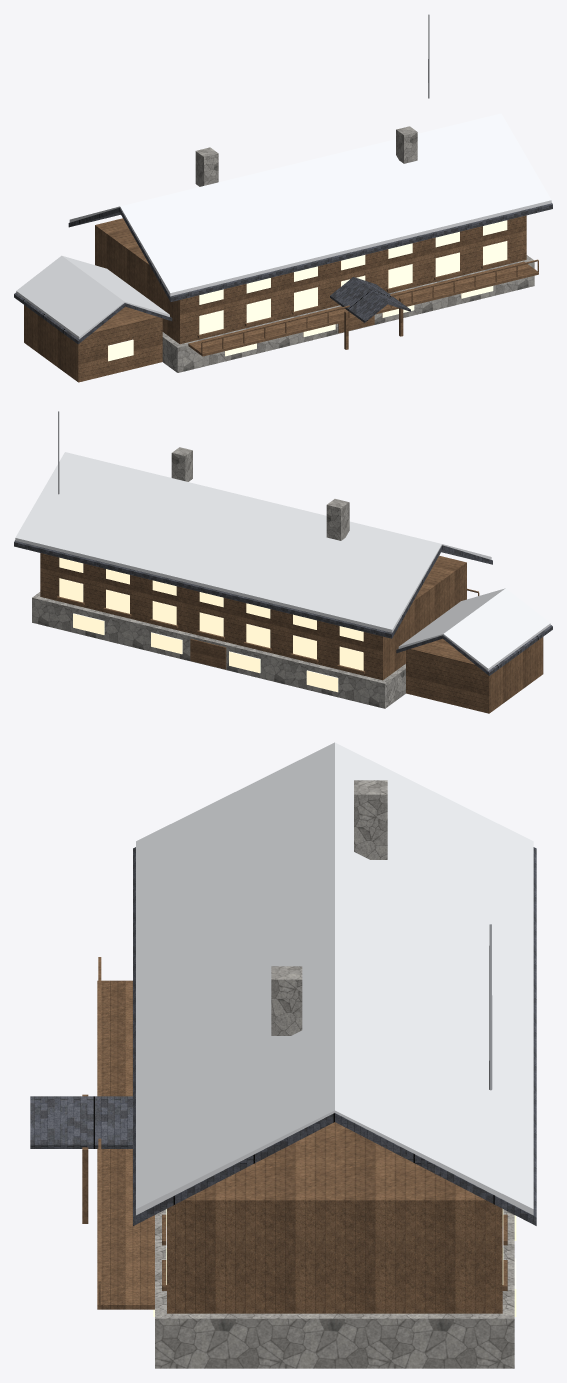
Rendered from props.glb.
3 renders of one model, top to bottom at view 1: azimuth 30°, elevation 25°; view 2: azimuth 150°, elevation 25°; view 3: azimuth 270°, elevation 25°, orthographic. The views are drawn at different scales.
Parts seen in each view (by area): view 1: lodge__snow, lodge__wood, lodge__glass, lodge__stone, lodge__roof; view 2: lodge__snow, lodge__wood, lodge__stone, lodge__glass, lodge__roof; view 3: lodge__snow, lodge__wood, lodge__stone, lodge__roof.
Part boxes in pixels (x1=…): lodge__snow: x1=16, y1=113, x2=551, y2=339; lodge__wood: x1=24, y1=215, x2=538, y2=382; lodge__glass: x1=108, y1=220, x2=507, y2=361; lodge__stone: x1=162, y1=126, x2=534, y2=372; lodge__roof: x1=14, y1=203, x2=552, y2=344; lodge__snow: x1=15, y1=452, x2=550, y2=670; lodge__wood: x1=40, y1=553, x2=543, y2=713; lodge__stone: x1=32, y1=447, x2=405, y2=708; lodge__glass: x1=59, y1=557, x2=363, y2=692; lodge__roof: x1=14, y1=540, x2=552, y2=675; lodge__snow: x1=136, y1=742, x2=533, y2=1215; lodge__wood: x1=82, y1=957, x2=507, y2=1313; lodge__stone: x1=155, y1=780, x2=514, y2=1368; lodge__roof: x1=30, y1=847, x2=536, y2=1225.
Bounding box in the file's own units: 43.68 × 21.58 × 21.12.
22 materials, 8 textured.
